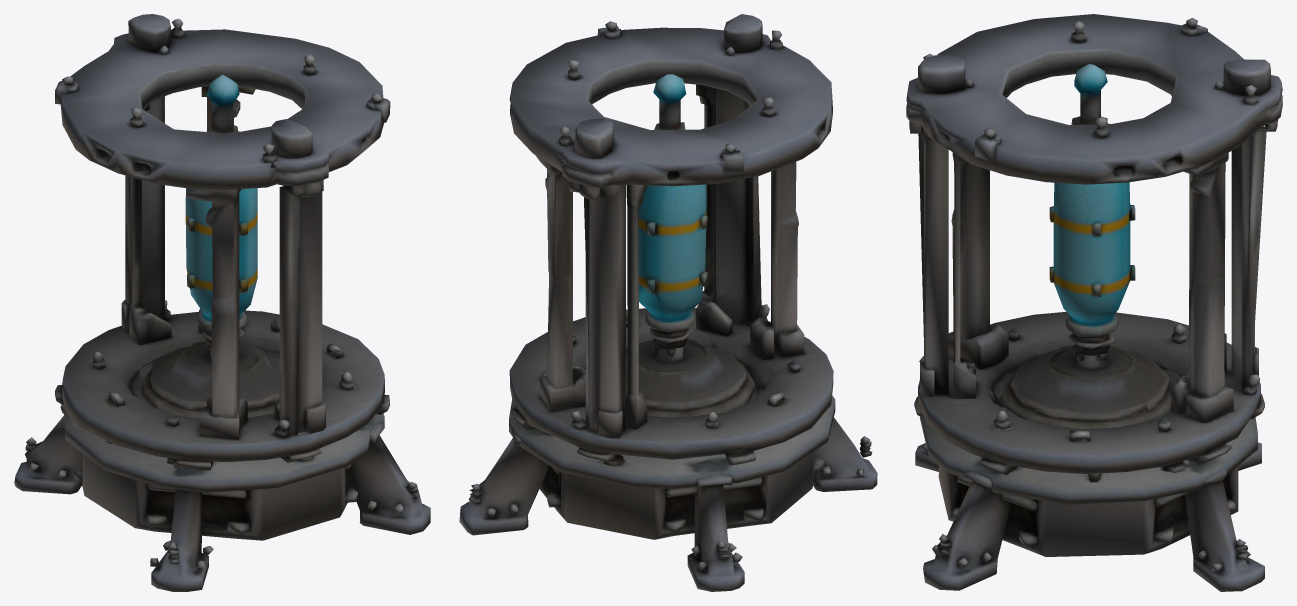
The model's file is breachpoint-rift-relay.glb.
The picture shows the model from 3 angles, left to right: view 1: azimuth 30°, elevation 25°; view 2: azimuth 150°, elevation 25°; view 3: azimuth 270°, elevation 25°; orthographic projection. The views are drawn at different scales.
Visible parts, largest first — view 1: part; view 2: part; view 3: part.
Part boxes in pixels (box(x1,y1,x2,y2)): part: box(14, 14, 430, 591); part: box(459, 14, 877, 591); part: box(906, 14, 1282, 591).
Bounding box in the file's own units: 0.6895 × 0.998 × 0.748.
Materials: 1 (1 with a texture image).
